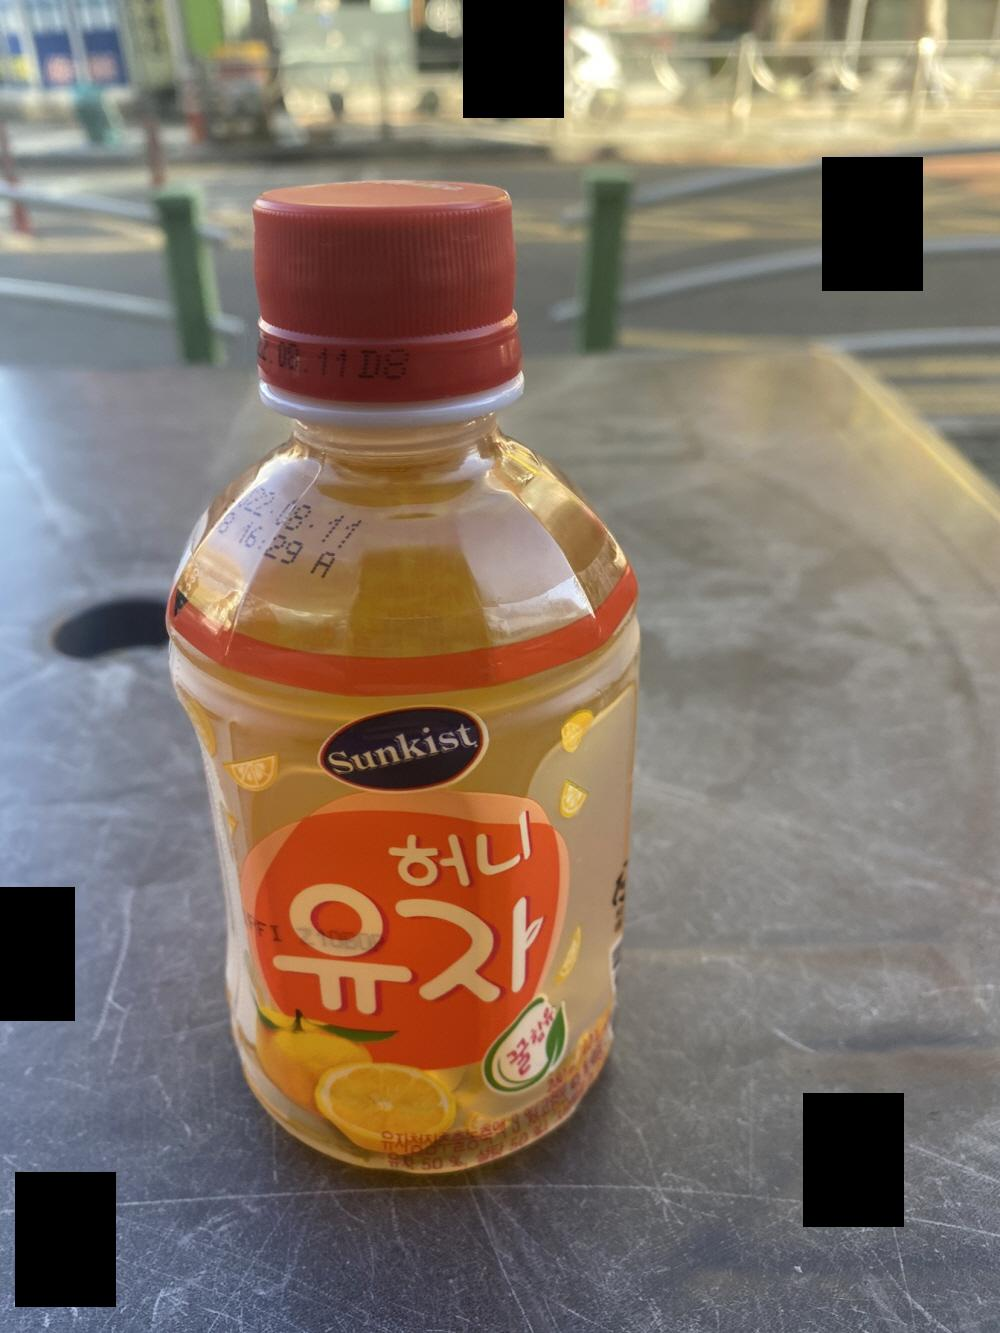honeyyuja: (165, 181, 651, 1166)
